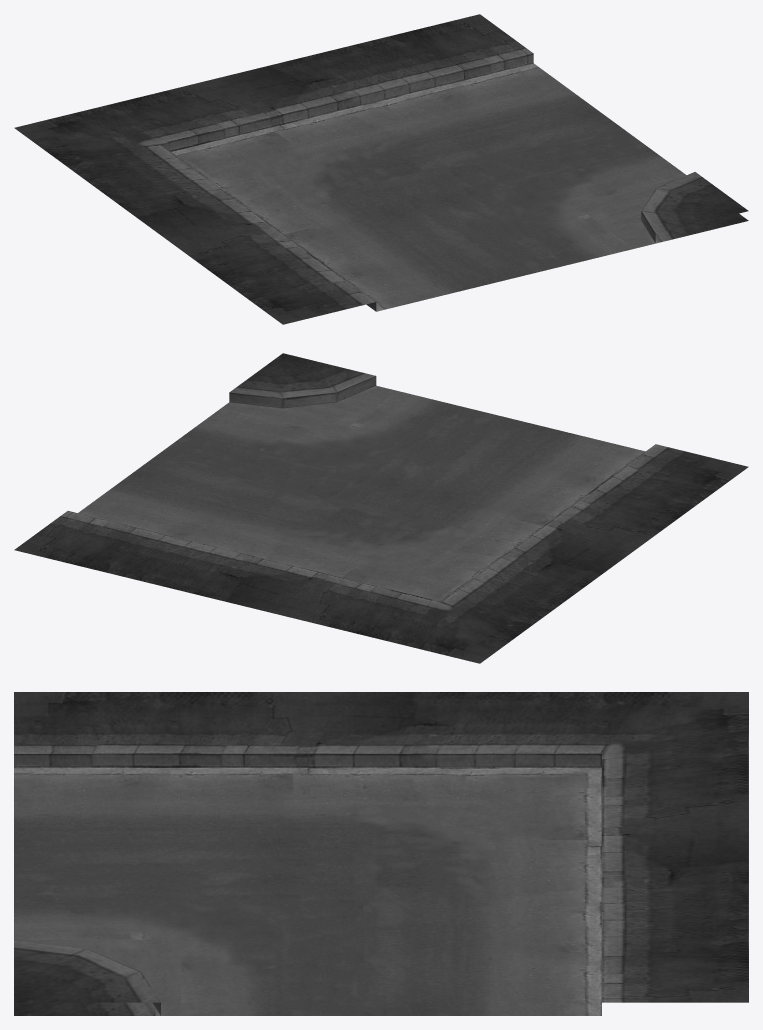
The model's file is road.obj.
3 views of the same model, one above another, from view 1: azimuth 30°, elevation 25°; view 2: azimuth 150°, elevation 25°; view 3: azimuth 270°, elevation 25° (orthographic). The views are drawn at different scales.
Parts seen in each view (by area): view 1: group; view 2: group; view 3: group.
Part boxes in pixels (<box>): group: <box>14,14,748,324</box>; group: <box>14,353,748,663</box>; group: <box>14,692,748,1015</box>.
Size of the model in its own units: 10 by 0.2 by 10.
1 material, 1 textured.
